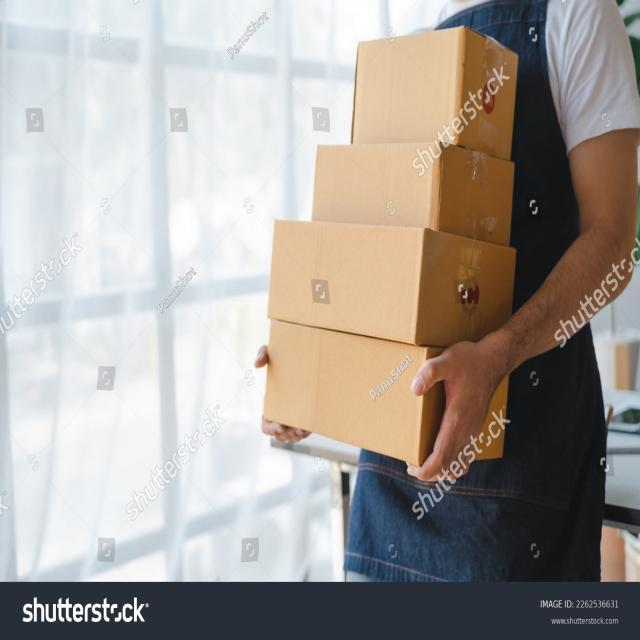BoxFace: (263, 318, 427, 471), (268, 221, 426, 345), (348, 25, 464, 144), (310, 141, 438, 223)
